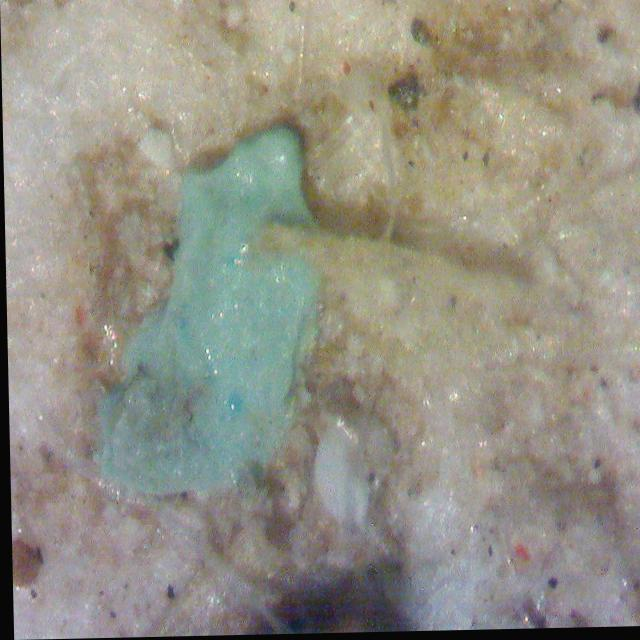microplastic: (99, 127, 322, 493)
